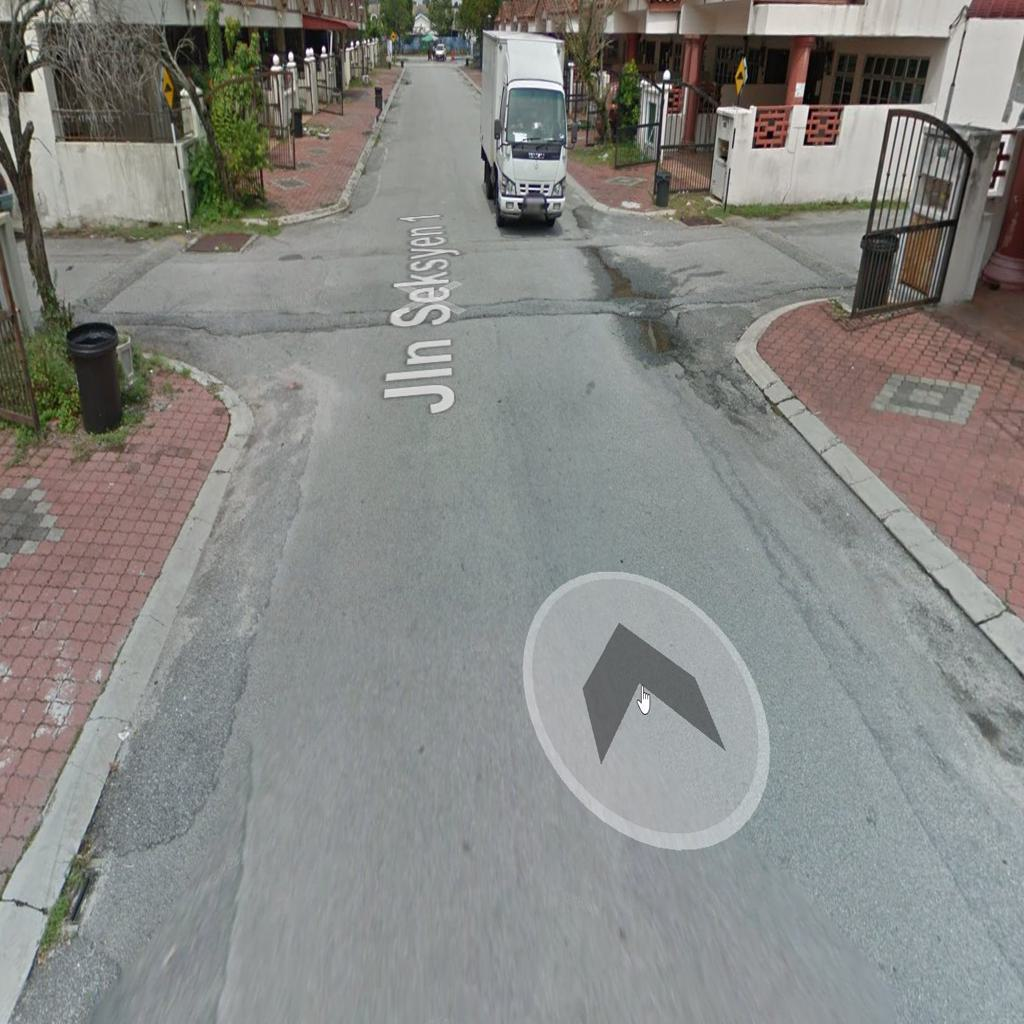Junction: (25, 198, 364, 441), (601, 170, 898, 356)
